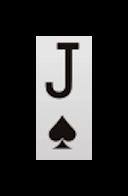JS: (40, 39, 82, 153)
